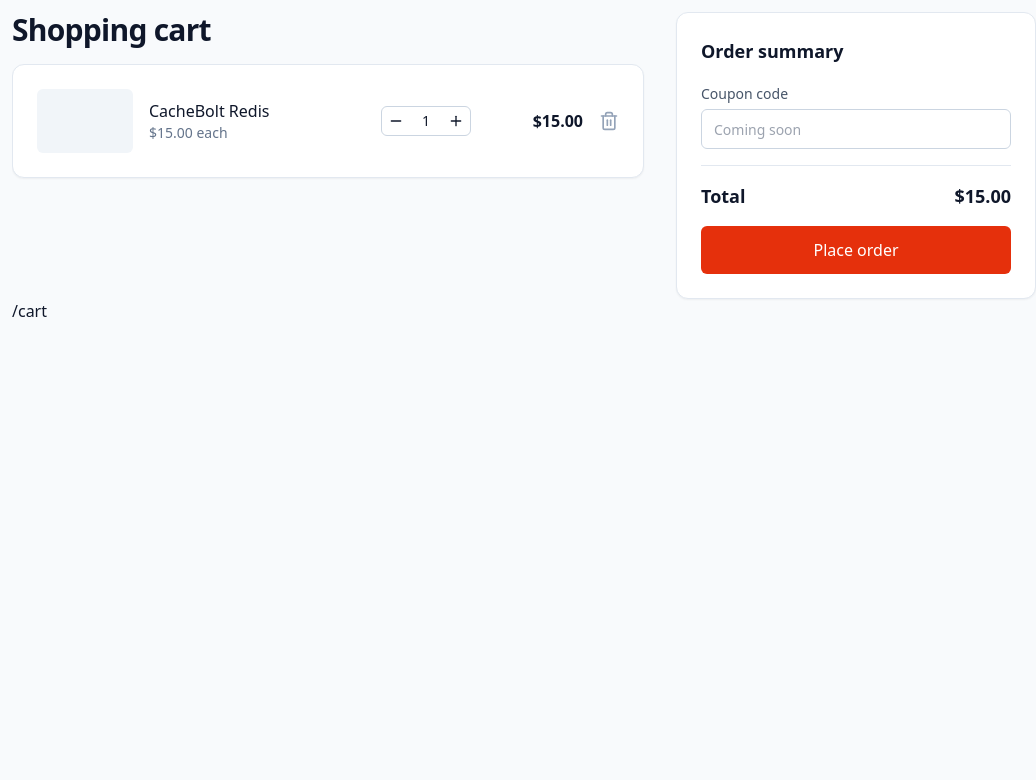
Test case: Cart page › sends a null coupon when the field is blank
Click the button "Place order": coordinates (856, 250) [701,226,1011,274]
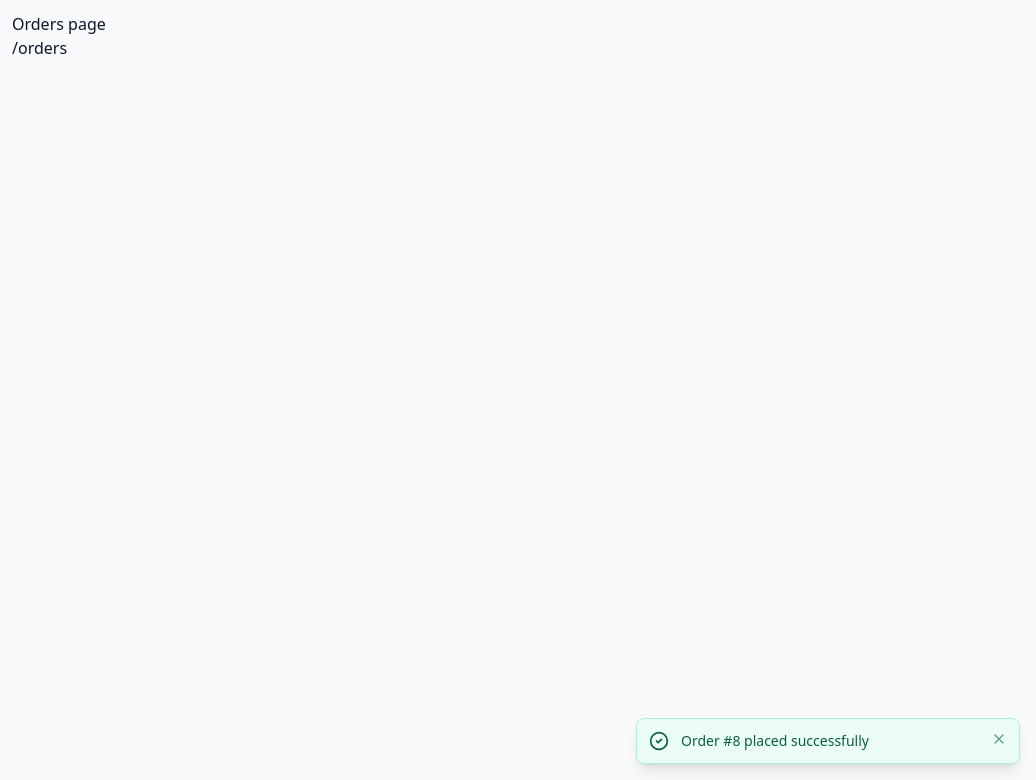
Expected: the text "Orders page" is shown, [12,13,106,35]
